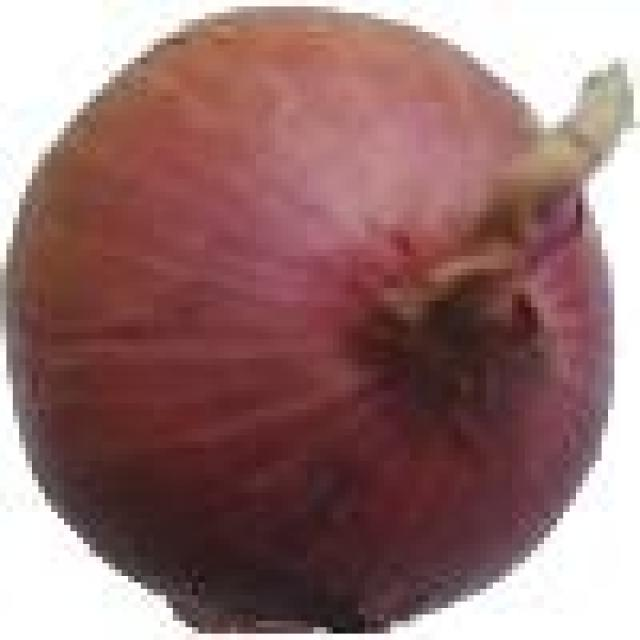Onion: (6, 6, 608, 621)
